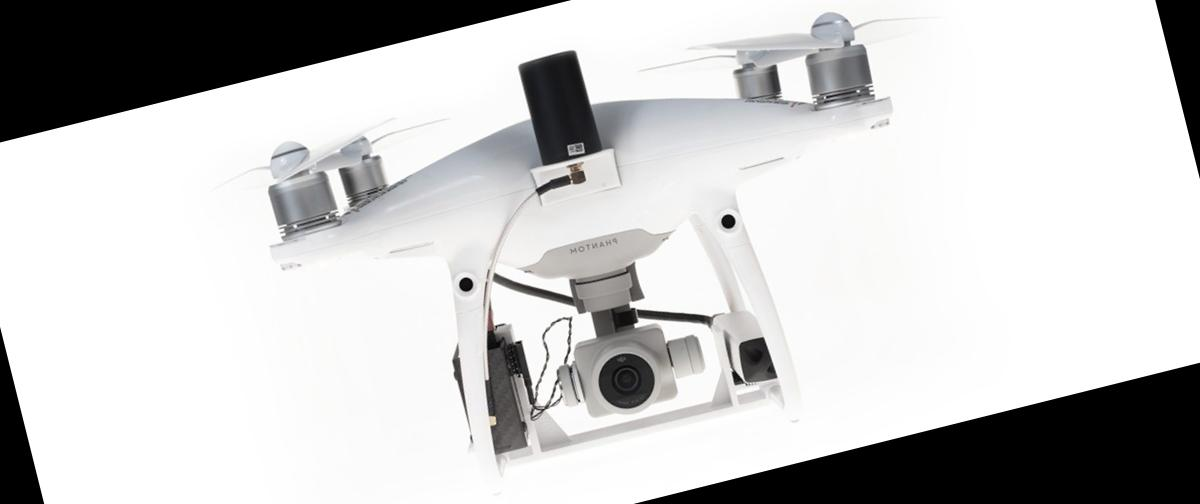drone: (164, 0, 999, 382)
